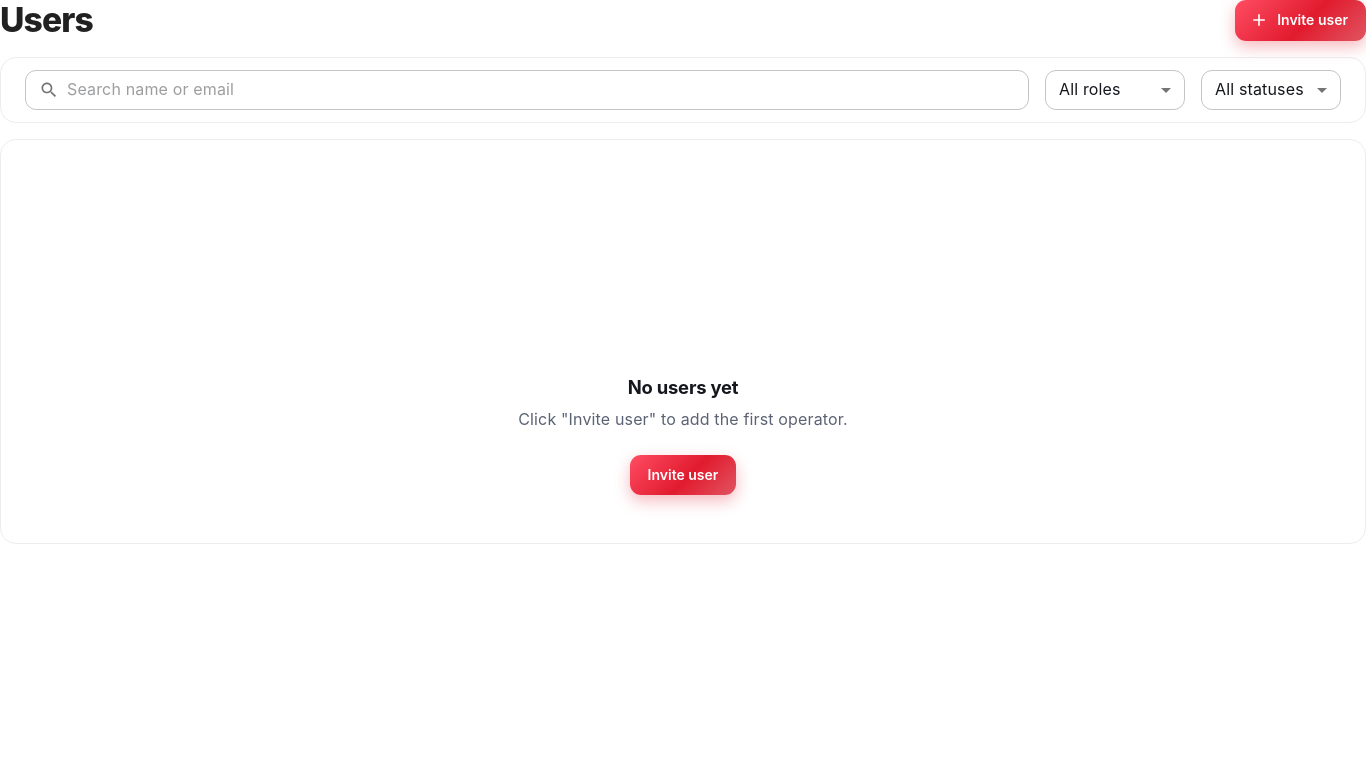
Scenario: UsersPage › invite dialog shows email format error for invalid email
Step 1. Click the 1st button "Invite user" → (1301, 20), box [1235,0,1365,40]
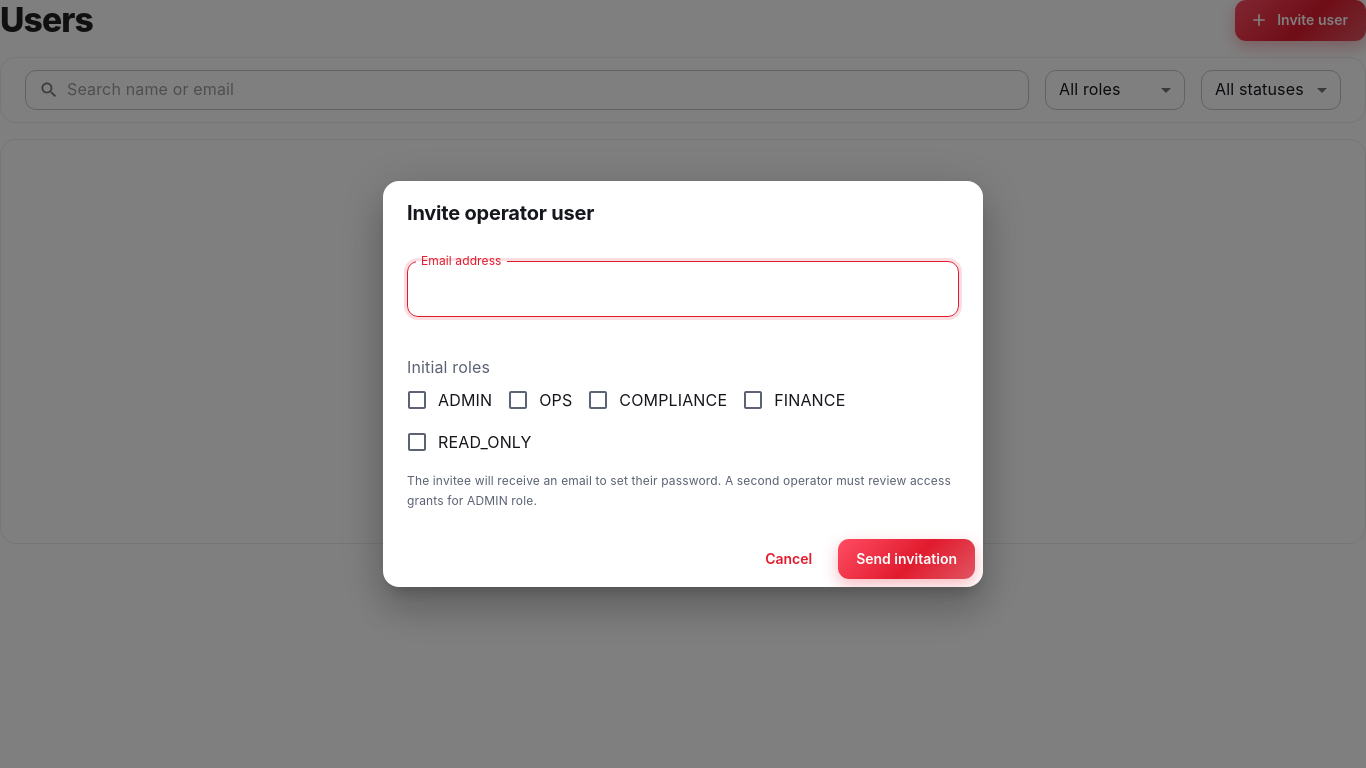
Step 2. Type "not-an-email" into the field labelled "Email address" → (683, 289), box [407,261,959,317]
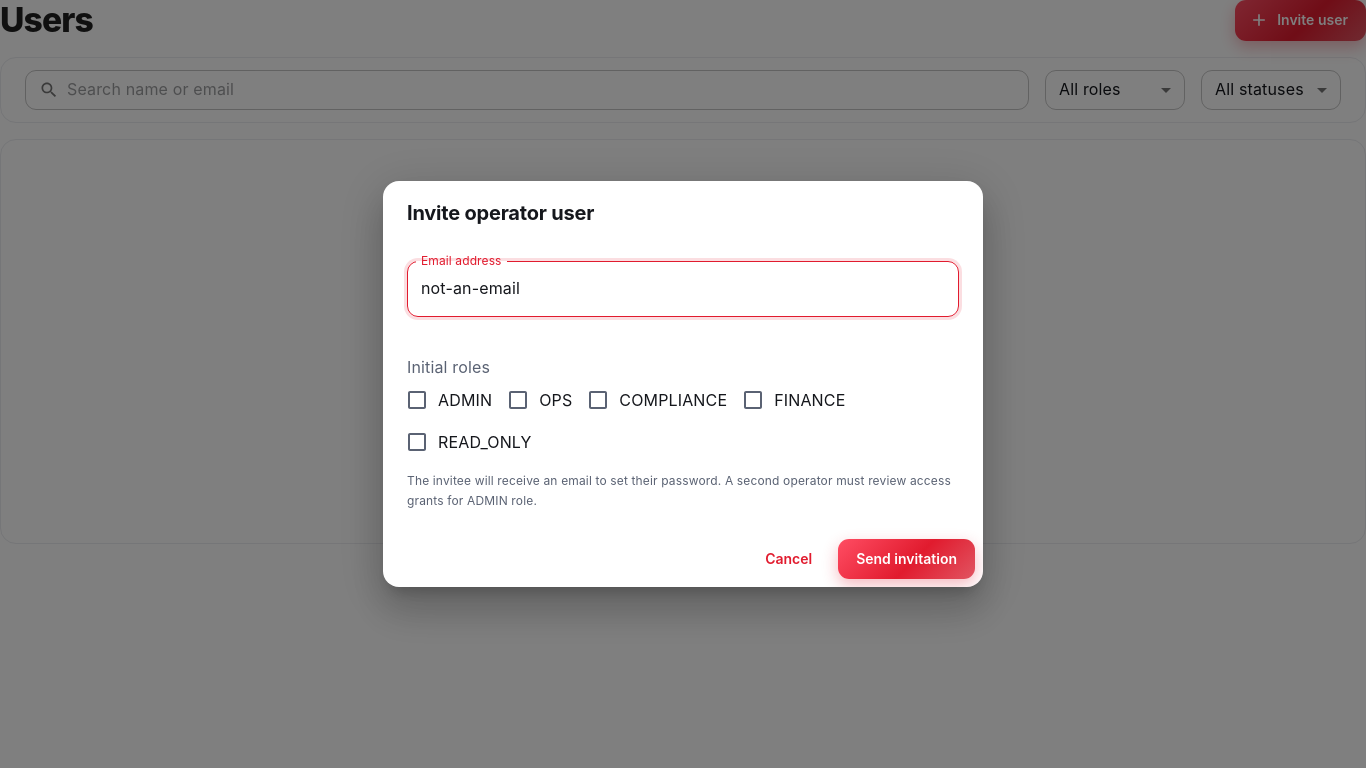
Step 3. Click the button "Send invitation" → (907, 559), box [838,539,975,579]
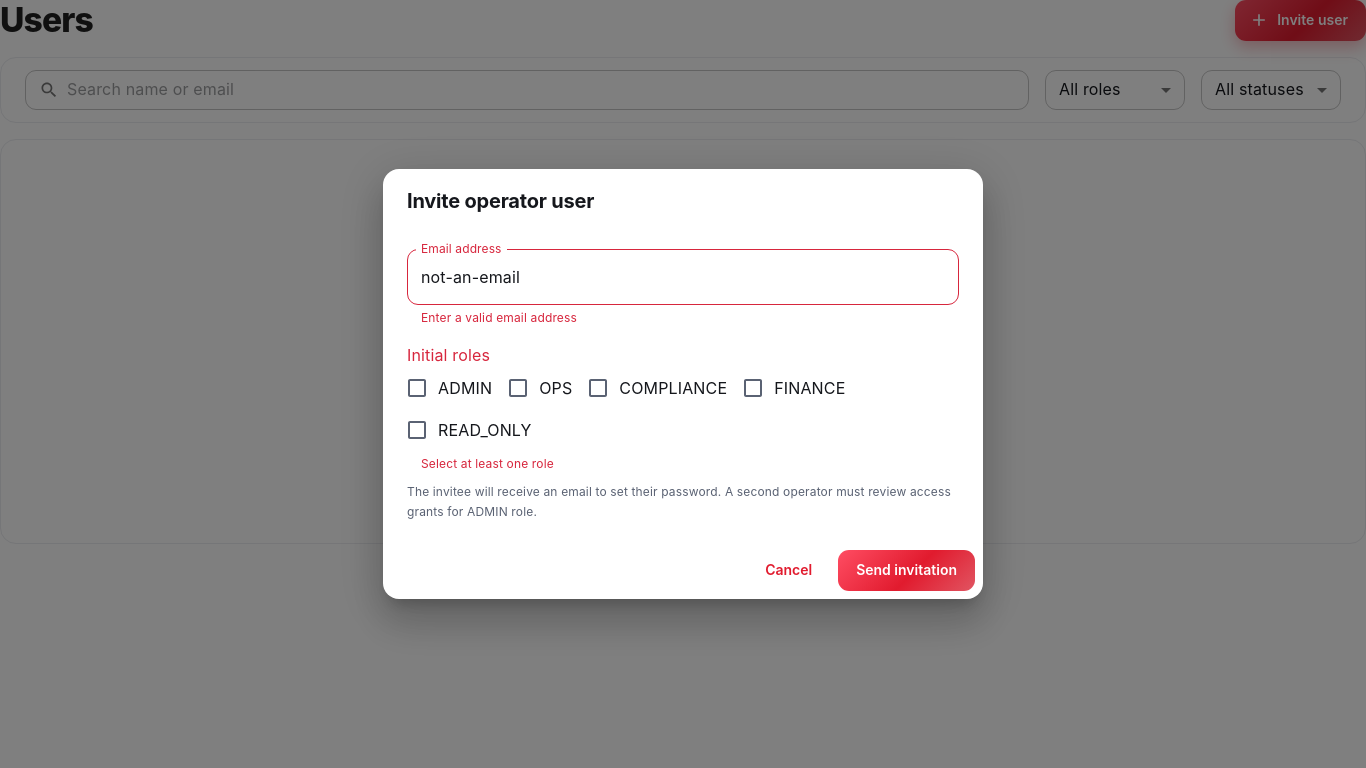
Result: the text "Enter a valid email address" is shown at [421,310,577,325]
